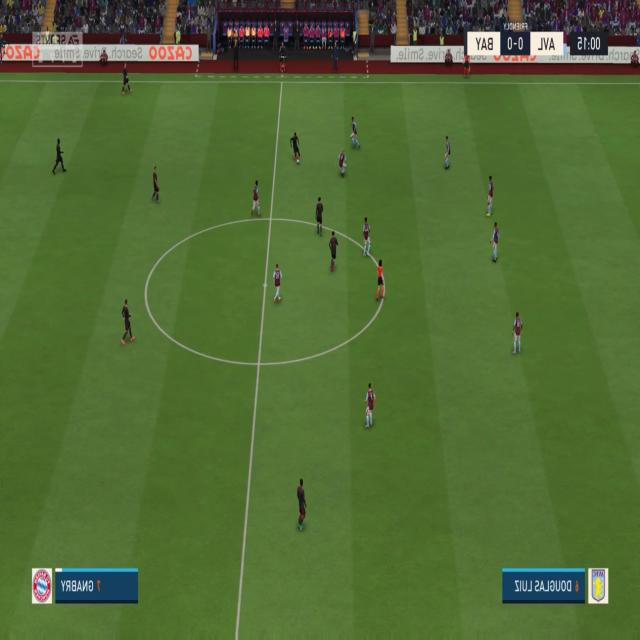Ball: (296, 158, 300, 166)
Referee: (376, 259, 384, 299)
Team-A: (296, 478, 308, 530), (120, 299, 134, 342), (52, 138, 67, 176), (289, 132, 301, 165), (314, 199, 324, 238), (328, 234, 338, 272), (120, 66, 132, 95), (152, 170, 162, 204)
Team-H: (509, 310, 522, 353), (364, 382, 376, 428), (270, 266, 284, 300), (248, 179, 260, 218), (488, 222, 499, 263), (441, 137, 452, 172), (361, 218, 371, 255), (350, 115, 360, 150), (487, 178, 496, 216), (336, 151, 346, 179)
